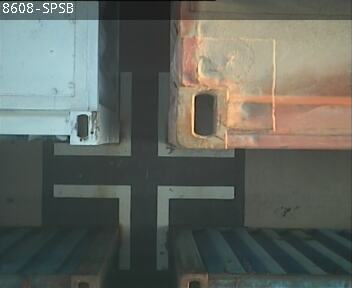groundmarker_1: (53, 181, 233, 270), (55, 69, 235, 158)
